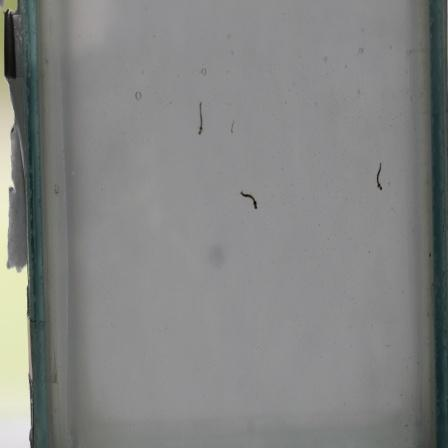Jentik-Nyamuk: (238, 186, 260, 214), (372, 158, 386, 197), (193, 98, 206, 138)
